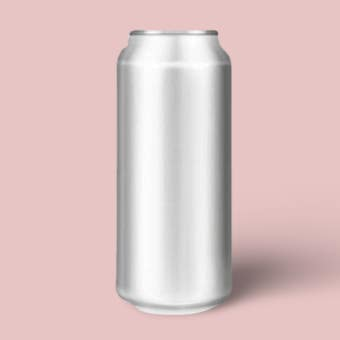paper: (115, 24, 236, 319)
